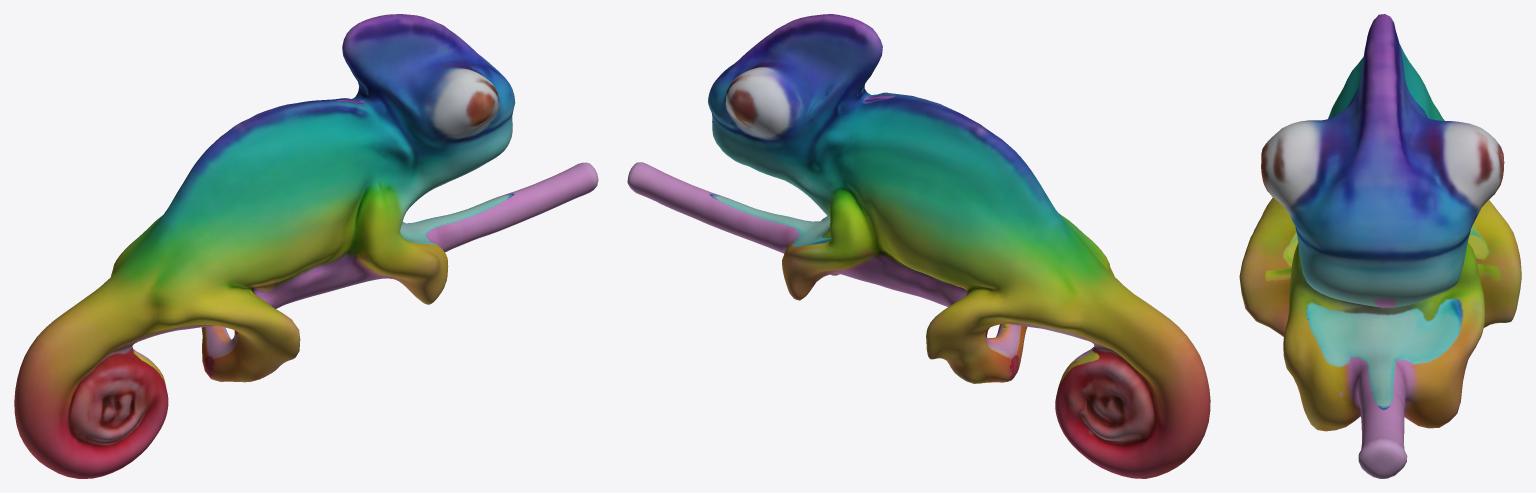
File: daf8be579bc6_rainbow_chameleon__.fbx
3 renders of one model, left to right at view 1: azimuth 30°, elevation 25°; view 2: azimuth 150°, elevation 25°; view 3: azimuth 270°, elevation 25°, orthographic. The views are drawn at different scales.
Visible parts, largest first — view 1: mesh; view 2: mesh; view 3: mesh.
Boxes of the visible parts, x1=… form: mesh: x1=14, y1=14, x2=598, y2=478; mesh: x1=627, y1=14, x2=1210, y2=478; mesh: x1=1239, y1=14, x2=1521, y2=478.
Bounding box in the file's own units: 99.97 × 64.52 × 30.39.
